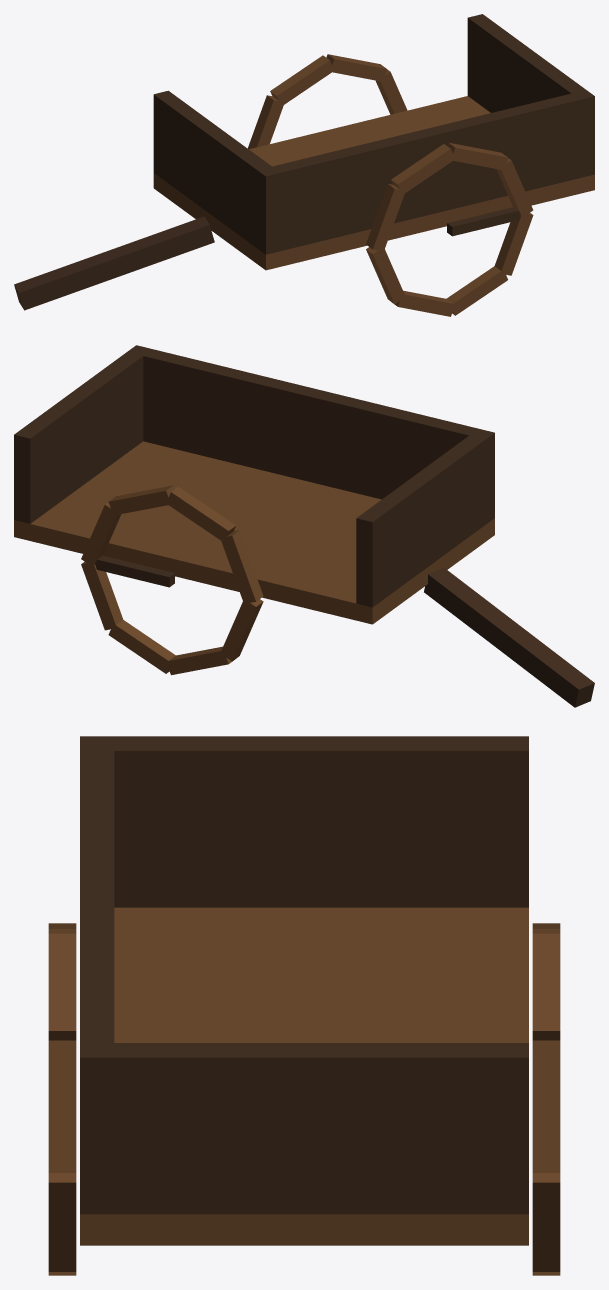
File: cart_ruined.fbx
The picture shows the model from 3 angles, top to bottom: view 1: azimuth 30°, elevation 25°; view 2: azimuth 150°, elevation 25°; view 3: azimuth 270°, elevation 25°; orthographic projection. The views are drawn at different scales.
Parts seen in each view (by area): view 1: cart_ruined; view 2: cart_ruined; view 3: cart_ruined.
Part boxes in pixels (x1,y1,x2,y2): cart_ruined: (14, 14, 594, 316); cart_ruined: (14, 345, 594, 707); cart_ruined: (48, 736, 560, 1275).
Size of the model in its own units: 3.33 by 1.14 by 1.48.
